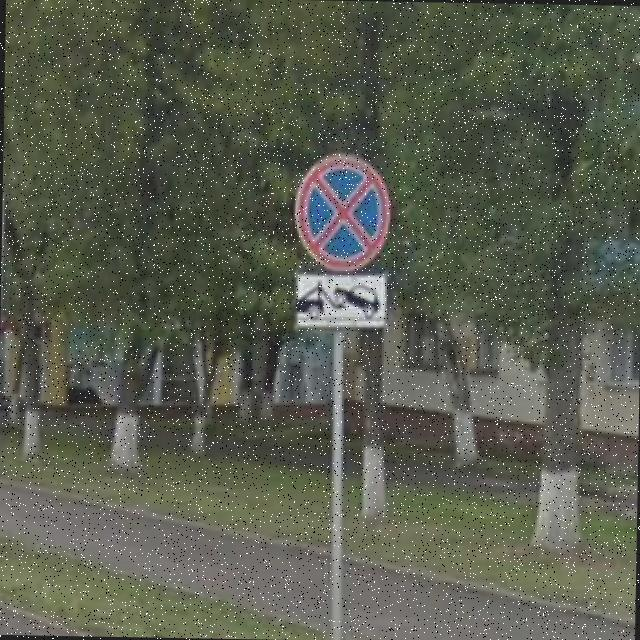Zakaz zatrzymywania sie: (290, 152, 396, 276)
